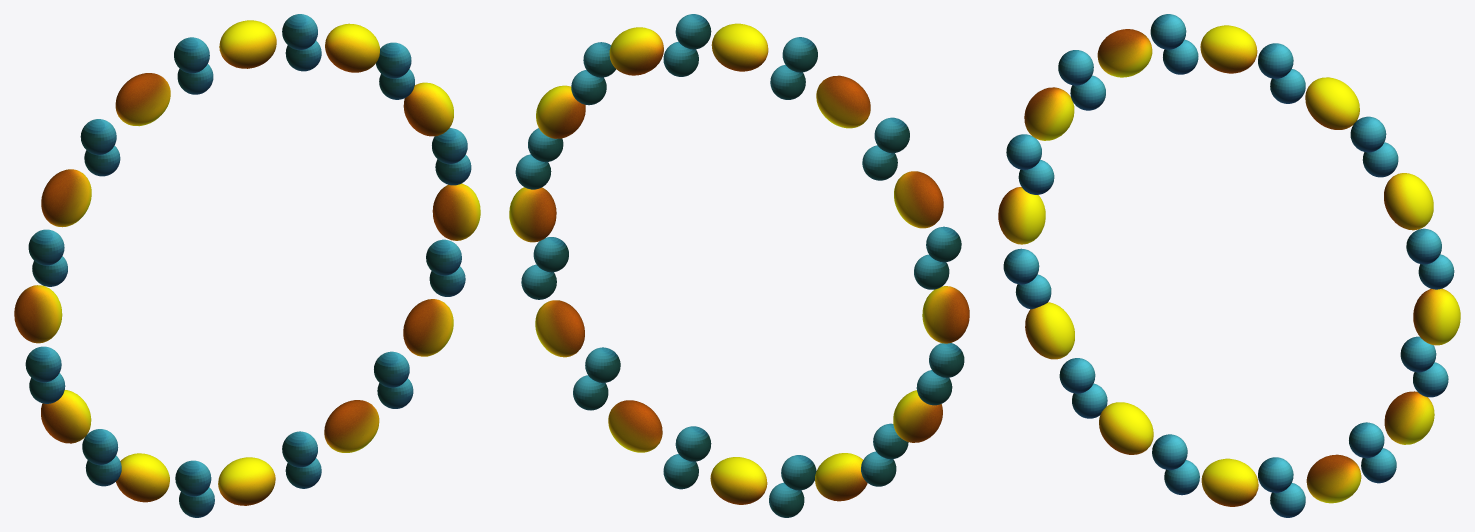
The model's file is PowerRing.fbx.
3 renders of one model, left to right at view 1: azimuth 30°, elevation 25°; view 2: azimuth 150°, elevation 25°; view 3: azimuth 330°, elevation 25°, orthographic.
Parts seen in each view (by area): view 1: Sphere.017, Sphere.016, Sphere.021, Sphere.020, Sphere.013, Sphere.001, Sphere, Sphere.012, Sphere.004, Sphere.008, Sphere.005, Sphere.009 (+24 smaller); view 2: Sphere.021, Sphere.017, Sphere.016, Sphere.020, Sphere.013, Sphere, Sphere.001, Sphere.012, Sphere.004, Sphere.008, Sphere.005, Sphere.009 (+24 smaller); view 3: Sphere.005, Sphere.004, Sphere.008, Sphere.009, Sphere.001, Sphere, Sphere.012, Sphere.013, Sphere.017, Sphere.021, Sphere.020, Sphere.016 (+24 smaller).
Part boxes in pixels (bbox=[...]): Sphere.017: bbox=[41, 169, 91, 227]; Sphere.016: bbox=[403, 299, 453, 356]; Sphere.021: bbox=[115, 73, 170, 126]; Sphere.020: bbox=[324, 400, 379, 452]; Sphere.013: bbox=[14, 285, 62, 343]; Sphere.001: bbox=[218, 457, 275, 505]; Sphere: bbox=[219, 20, 276, 68]; Sphere.012: bbox=[432, 183, 480, 240]; Sphere.004: bbox=[325, 23, 379, 72]; Sphere.008: bbox=[403, 82, 453, 136]; Sphere.005: bbox=[116, 453, 169, 502]; Sphere.009: bbox=[41, 390, 91, 443]; Sphere.021: bbox=[816, 75, 870, 128]; Sphere.017: bbox=[894, 171, 943, 228]; Sphere.016: bbox=[535, 300, 584, 357]; Sphere.020: bbox=[608, 400, 662, 452]; Sphere.013: bbox=[922, 286, 969, 343]; Sphere: bbox=[711, 23, 768, 71]; Sphere.001: bbox=[710, 457, 767, 504]; Sphere.012: bbox=[509, 187, 556, 242]; Sphere.004: bbox=[609, 27, 663, 75]; Sphere.008: bbox=[536, 85, 585, 138]; Sphere.005: bbox=[815, 453, 867, 501]; Sphere.009: bbox=[893, 390, 942, 442]; Sphere.005: bbox=[1099, 402, 1153, 454]; Sphere.004: bbox=[1305, 77, 1359, 129]; Sphere.008: bbox=[1384, 173, 1433, 230]; Sphere.009: bbox=[1025, 302, 1074, 359]; Sphere.001: bbox=[1201, 458, 1258, 506]; Sphere: bbox=[1200, 25, 1257, 73]; Sphere.012: bbox=[1413, 288, 1460, 345]; Sphere.013: bbox=[998, 187, 1045, 244]; Sphere.017: bbox=[1024, 87, 1074, 140]; Sphere.021: bbox=[1097, 29, 1152, 77]; Sphere.020: bbox=[1306, 454, 1361, 503]; Sphere.016: bbox=[1384, 391, 1434, 444].
Bounding box in the file's own units: 442 × 443 × 42.01.
